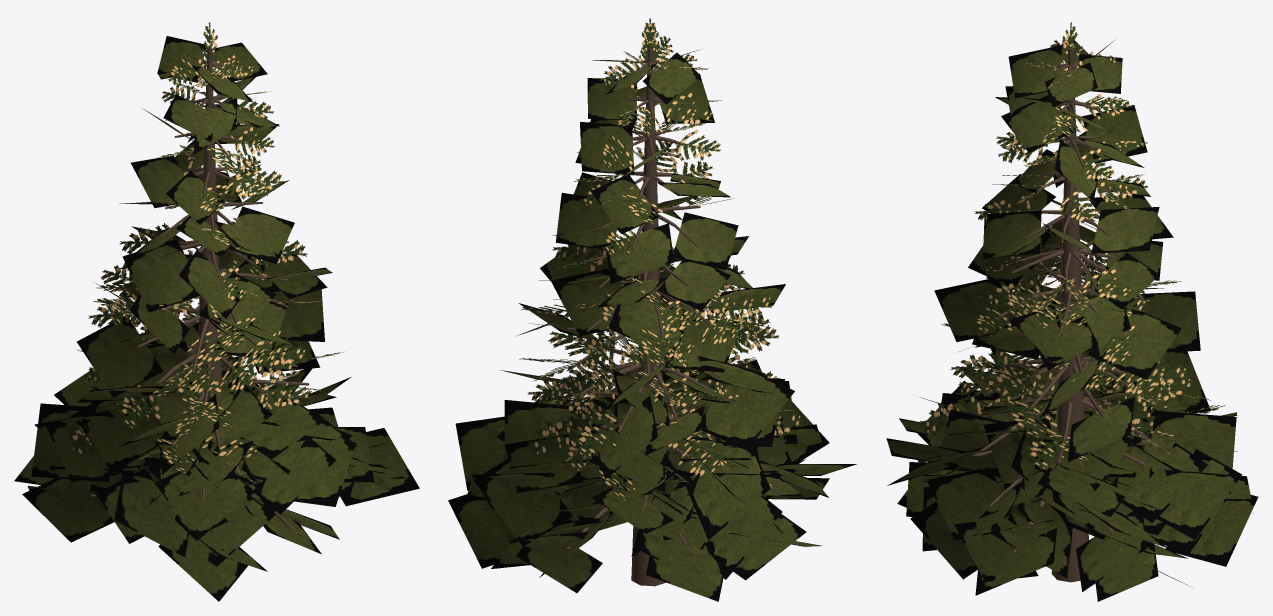
File: snow_pine_2_burnt1.glb
3 views of the same model, side by side, from view 1: azimuth 30°, elevation 25°; view 2: azimuth 150°, elevation 25°; view 3: azimuth 270°, elevation 25° (orthographic). The views are drawn at different scales.
Visible parts, largest first — view 1: snow_pine_2_burnt1; view 2: snow_pine_2_burnt1; view 3: snow_pine_2_burnt1.
Boxes of the visible parts, left/top/right/bottom form: snow_pine_2_burnt1: left=14, top=22, right=419, bottom=601; snow_pine_2_burnt1: left=448, top=18, right=856, bottom=601; snow_pine_2_burnt1: left=886, top=22, right=1258, bottom=601.
Size of the model in its own units: 6.63 by 10.13 by 6.18.
Materials: 3 (2 with a texture image).
